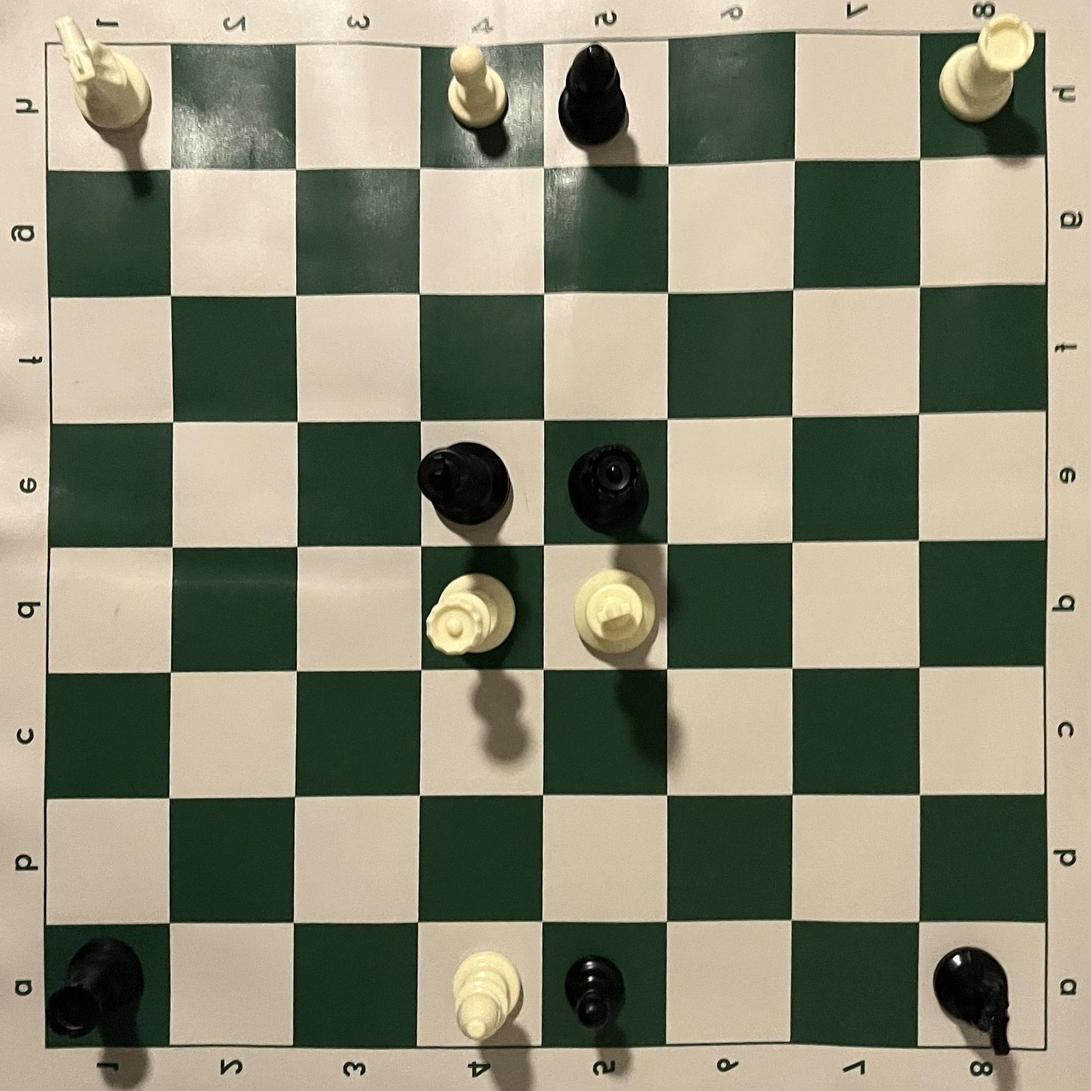black_bishop: (558, 44, 628, 145)
black_king: (417, 441, 513, 527)
black_knight: (933, 947, 1012, 1056)
black_pawn: (564, 955, 626, 1032)
black_queen: (568, 443, 649, 536)
black_rook: (46, 937, 144, 1039)
white_bishop: (452, 950, 521, 1042)
white_king: (573, 569, 656, 655)
white_knight: (54, 16, 153, 130)
white_pawn: (447, 44, 508, 130)
white_queen: (426, 573, 516, 656)
white_rook: (938, 13, 1035, 123)
